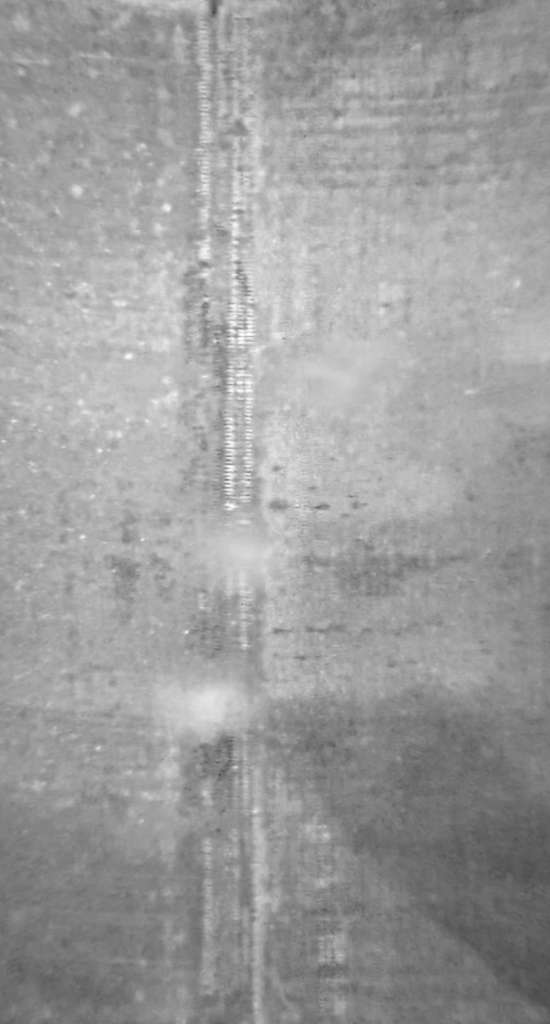splice: (184, 1, 269, 1019)
